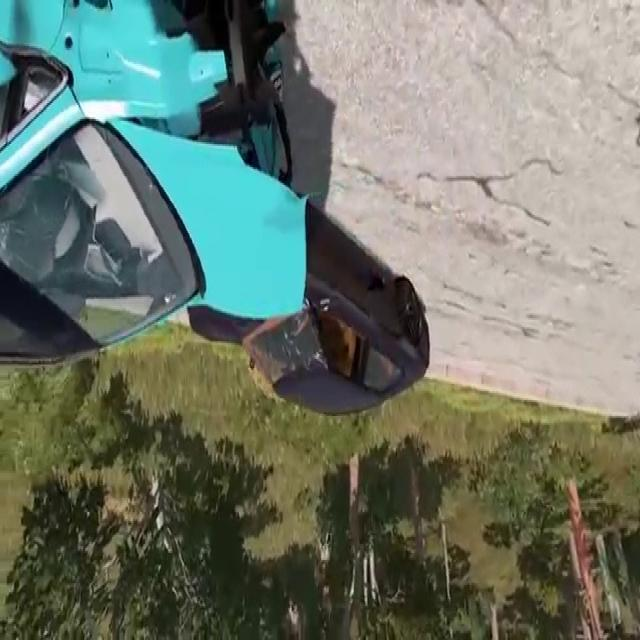moderate: (0, 11, 445, 423)
